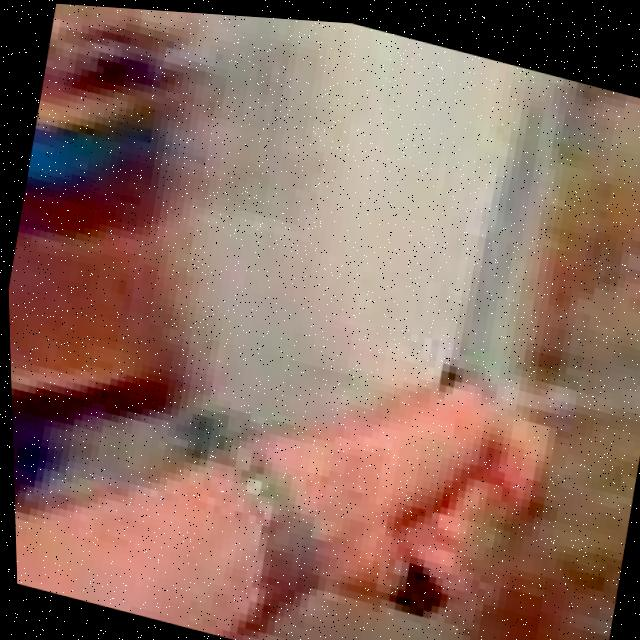knife: (432, 79, 568, 398)
